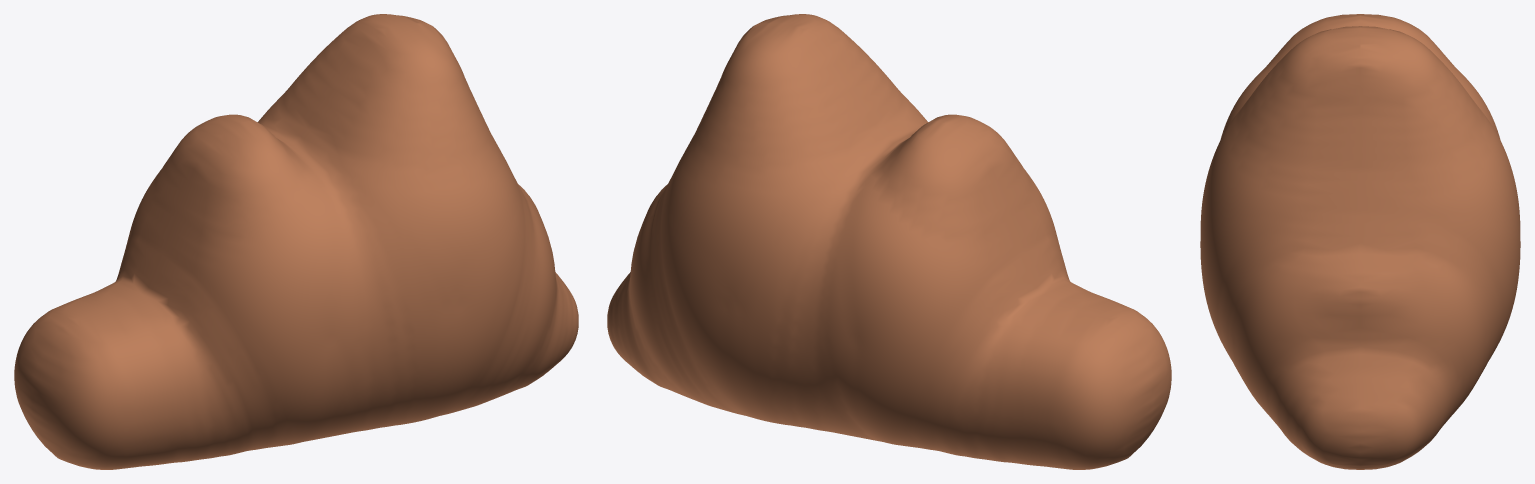
File: seeds.fbx
The picture shows the model from 3 angles, left to right: view 1: azimuth 30°, elevation 25°; view 2: azimuth 150°, elevation 25°; view 3: azimuth 270°, elevation 25°; orthographic projection.
Visible parts, largest first — view 1: root; view 2: root; view 3: root.
Part boxes in pixels (bbox=[...]): root: bbox=[14, 14, 578, 469]; root: bbox=[607, 14, 1171, 469]; root: bbox=[1200, 14, 1520, 469].
Bounding box in the file's own units: 0.3651 × 0.2478 × 0.1879.
